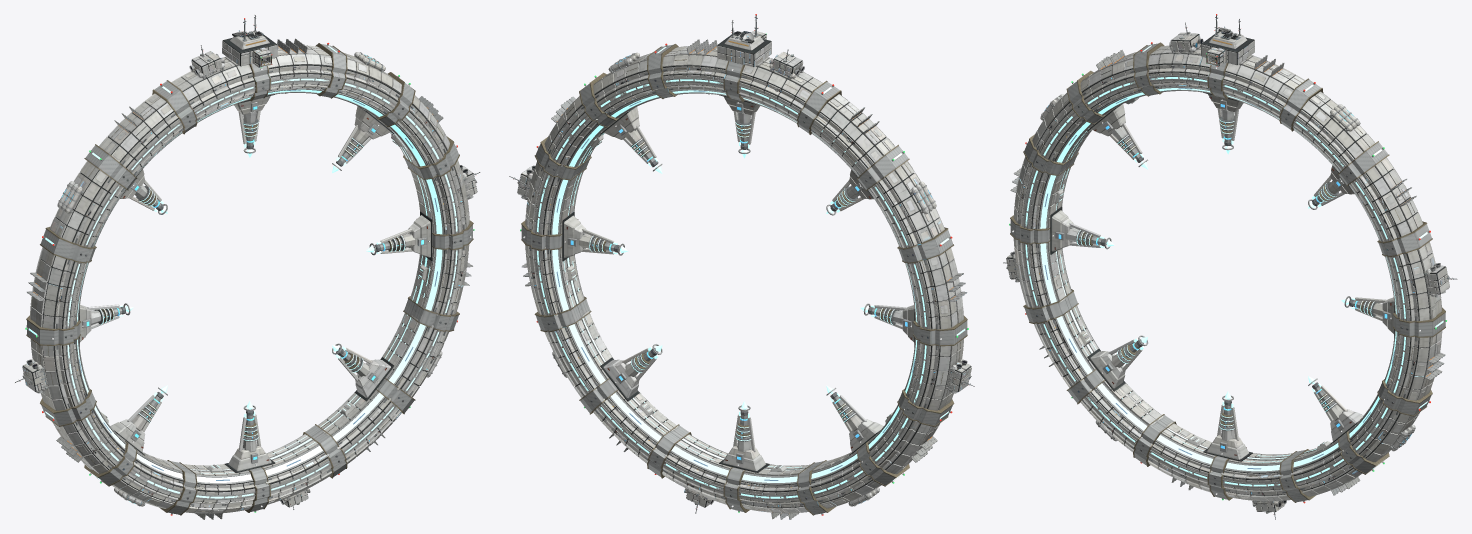
Rendered from jump_gate.glb.
The picture shows the model from 3 angles, left to right: view 1: azimuth 30°, elevation 25°; view 2: azimuth 150°, elevation 25°; view 3: azimuth 330°, elevation 25°; orthographic projection. The views are drawn at different scales.
Parts seen in each view (by area): view 1: Hull_2, Hull_3, Hull_1, Hull_0, GateEnergy, Lights; view 2: Hull_2, Hull_3, Hull_1, Hull_0, GateEnergy, Lights; view 3: Hull_2, Hull_3, Hull_1, Hull_0, GateEnergy, Lights.
Part boxes in pixels (x1,y1,x2,y2): Hull_2: (22,31,477,519); Hull_3: (22,31,474,513); Hull_1: (15,15,480,519); Hull_0: (15,15,479,509); GateEnergy: (28,46,457,498); Lights: (14,14,480,515); Hull_2: (517,31,971,519); Hull_3: (517,31,970,513); Hull_1: (509,15,974,519); Hull_0: (510,16,973,512); GateEnergy: (537,47,965,498); Lights: (509,14,974,515); Hull_2: (1006,27,1449,511); Hull_3: (1006,31,1448,512); Hull_1: (1003,15,1457,519); Hull_0: (1004,16,1456,518); GateEnergy: (1025,45,1443,486); Lights: (1003,14,1457,519).
Bounding box in the file's own units: 328 × 343 × 37.22.
4 materials, 2 textured.
